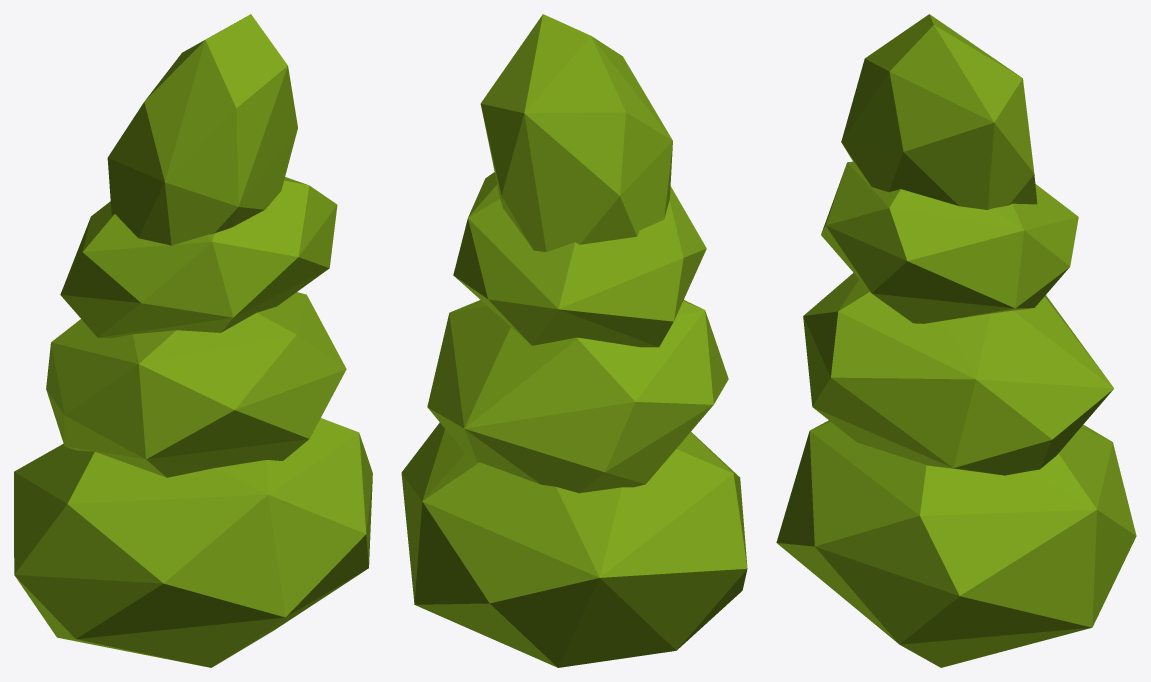
The model's file is tree-summer-leaves-4-048.glb.
3 renders of one model, left to right at view 1: azimuth 30°, elevation 25°; view 2: azimuth 150°, elevation 25°; view 3: azimuth 270°, elevation 25°, orthographic. The views are drawn at different scales.
Parts seen in each view (by area): view 1: TREE 4_295; view 2: TREE 4_295; view 3: TREE 4_295.
Boxes of the visible parts, left/top/right/bottom form: TREE 4_295: left=14, top=14, right=372, bottom=667; TREE 4_295: left=401, top=14, right=747, bottom=667; TREE 4_295: left=776, top=14, right=1136, bottom=667.
Size of the model in its own units: 0.7503 by 1.25 by 0.646.
